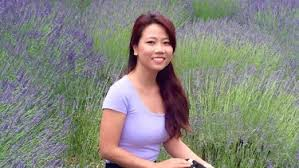asian_female: (113, 11, 199, 92)
